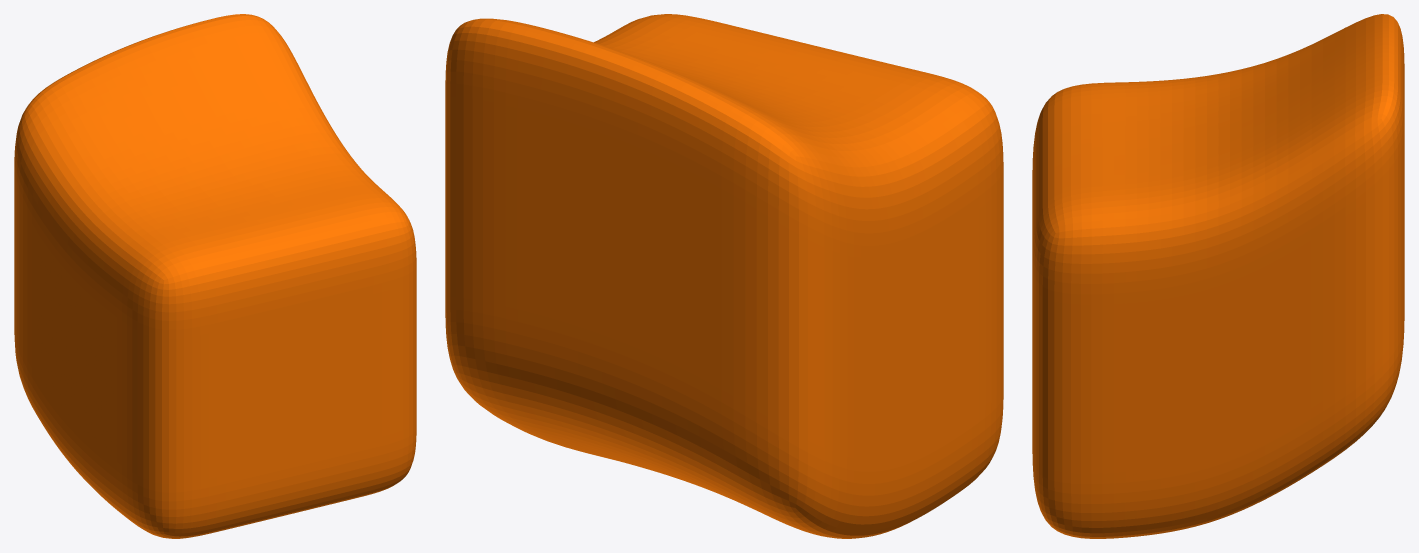
3 renders of one model, left to right at view 1: azimuth 30°, elevation 25°; view 2: azimuth 150°, elevation 25°; view 3: azimuth 270°, elevation 25°, orthographic. The views are drawn at different scales.
Visible parts, largest first — view 1: smooth_1_base.015; view 2: smooth_1_base.015; view 3: smooth_1_base.015.
Boxes of the visible parts, x1=… form: smooth_1_base.015: x1=14, y1=14, x2=416, y2=538; smooth_1_base.015: x1=445, y1=14, x2=1003, y2=538; smooth_1_base.015: x1=1032, y1=14, x2=1404, y2=538.
Bounding box in the file's own units: 60 × 78.96 × 60.
